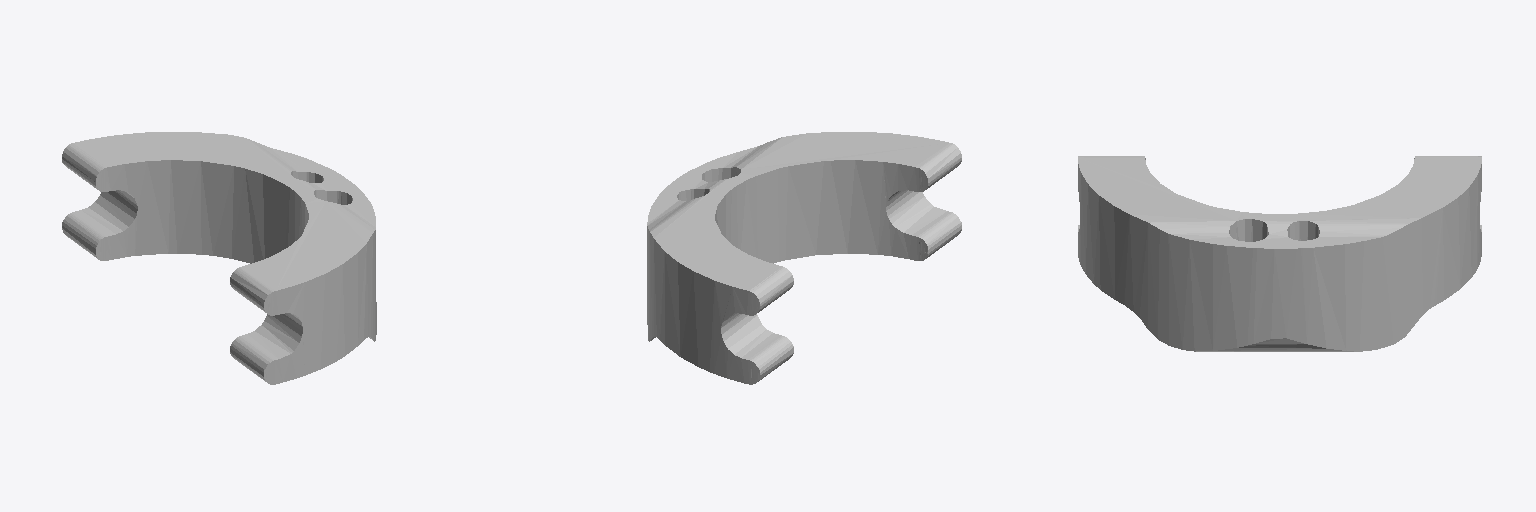
File: seg24.OBJ
3 renders of one model, left to right at view 1: azimuth 30°, elevation 25°; view 2: azimuth 150°, elevation 25°; view 3: azimuth 270°, elevation 25°, orthographic.
Parts seen in each view (by area): view 1: /ambf/env/seg24_seg24; view 2: /ambf/env/seg24_seg24; view 3: /ambf/env/seg24_seg24.
Part boxes in pixels (x1,y1,x2,y2): /ambf/env/seg24_seg24: (62,132,376,384); /ambf/env/seg24_seg24: (647,132,961,384); /ambf/env/seg24_seg24: (1078,156,1481,351).
Bounding box in the file's own units: 0.0032 × 0.0019 × 0.006.